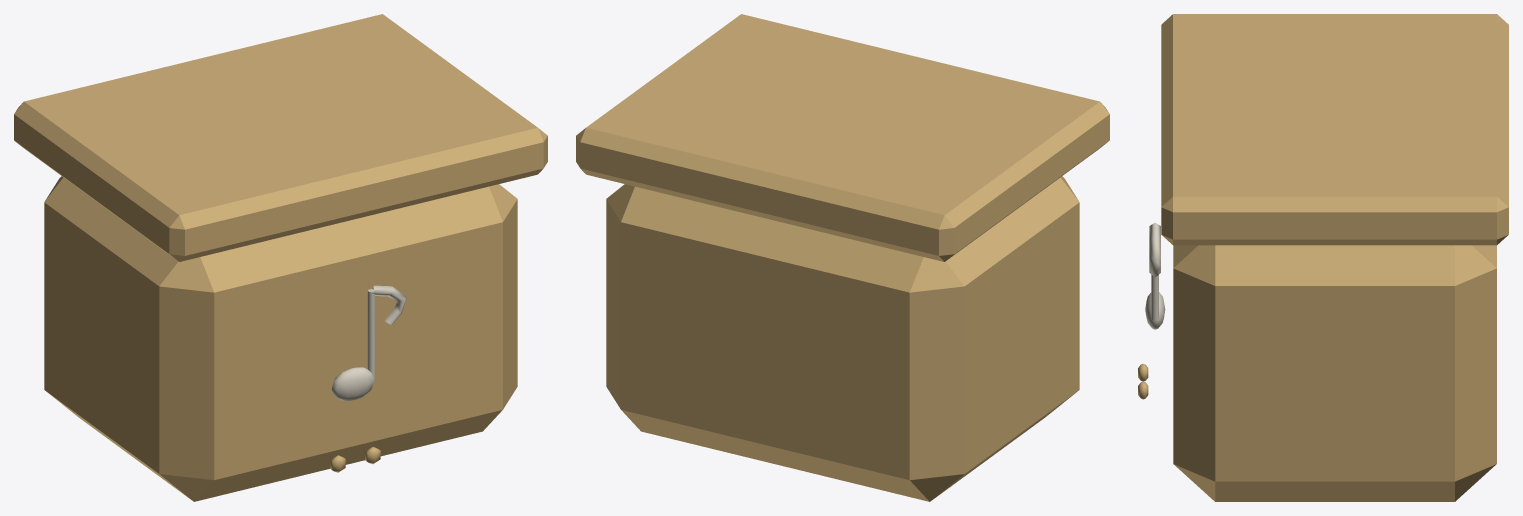
3 views of the same model, side by side, from view 1: azimuth 30°, elevation 25°; view 2: azimuth 150°, elevation 25°; view 3: azimuth 270°, elevation 25° (orthographic). The views are drawn at different scales.
Visible parts, largest first — view 1: g_s10; view 2: g_s10; view 3: g_s10.
Boxes of the visible parts, x1,y1,x2,y2 form: g_s10: (14, 14, 547, 501); g_s10: (576, 14, 1109, 501); g_s10: (1138, 14, 1508, 501).
Bounding box in the file's own units: 0.38 × 0.2975 × 0.3093.
